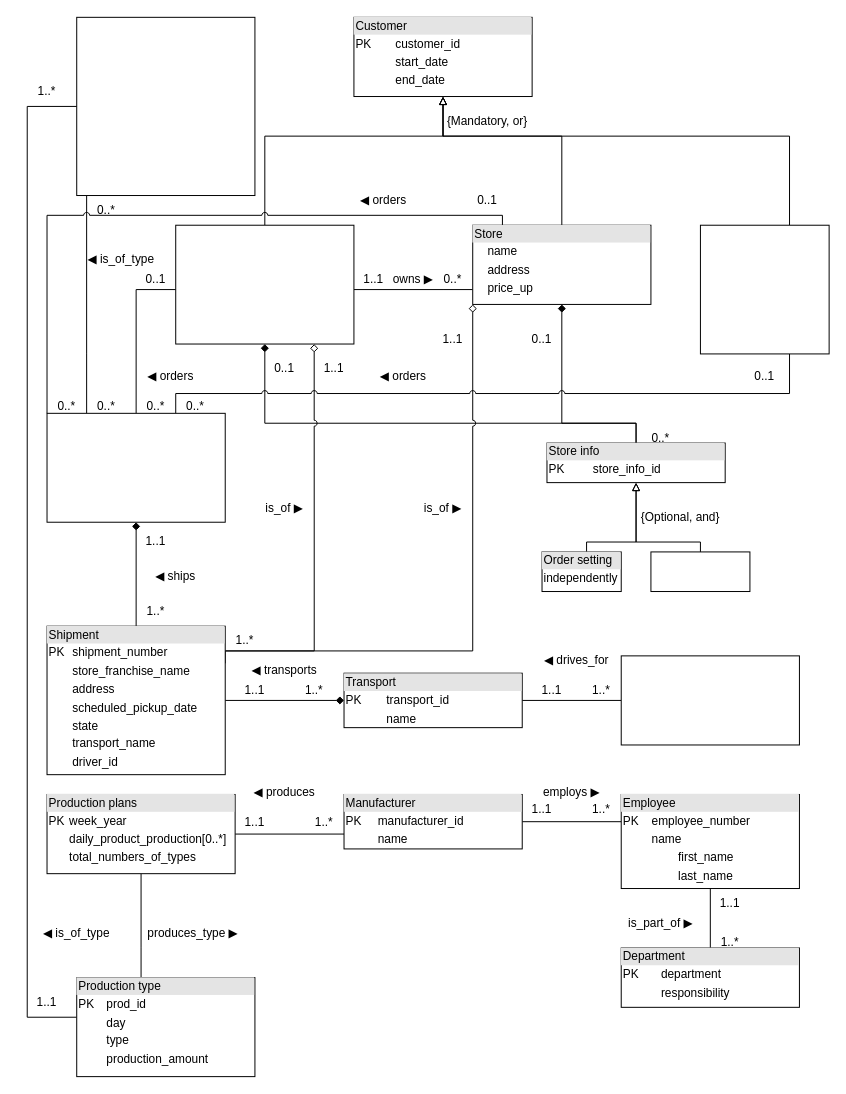
Some shapes in this 846 by 1094 pixel diagram are drawn without their labels. Each missing label, with the centre of its shape:
"Driver PK driver_id name first_name last_name" belongs at pixel 709 700.
"Franchise name price_up adress stores_info[0..*] large_order[0..*]" belongs at pixel 264 284.
"Order PK order_number ski_type quantity /total_price order_status" belongs at pixel 135 467.
"Product PK product_id model type size description in_production MSRPP url_photo" belongs at pixel 165 106.
"Receive shipment directly" belongs at pixel 700 571.
"Team Skier name first_name last_name date_of_birth club number_of_skies" belongs at pixel 764 289.
